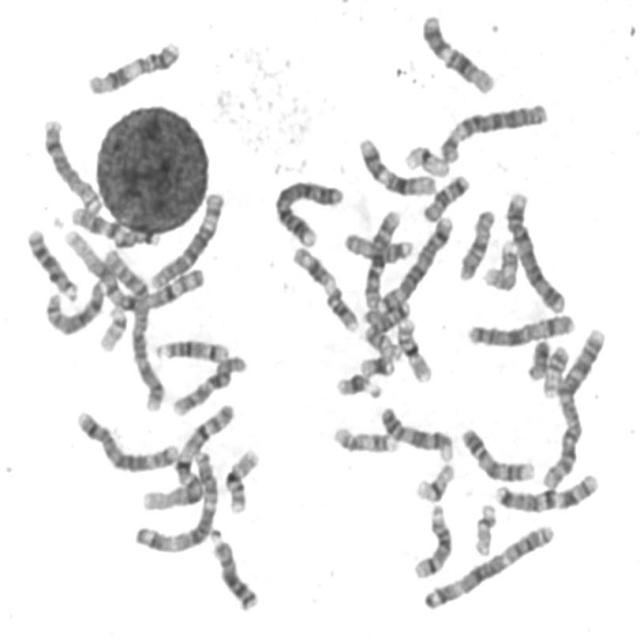A1: (60, 222, 208, 313), (138, 399, 238, 512)
A2: (536, 321, 608, 491), (98, 240, 166, 414)
A3: (418, 517, 557, 612), (131, 440, 224, 556)
B4: (501, 186, 568, 316), (270, 174, 346, 248)
B5: (373, 210, 455, 314), (70, 405, 181, 474)
C10: (168, 348, 250, 418), (360, 204, 404, 310)
C11: (287, 239, 362, 334), (82, 35, 182, 97)
C12: (416, 7, 497, 96), (354, 132, 437, 198)
C6: (145, 185, 227, 291), (434, 96, 551, 165)
C7: (489, 466, 601, 514), (67, 200, 162, 248)
C8: (37, 112, 104, 215), (40, 274, 108, 337)
C9: (375, 400, 456, 463), (457, 422, 537, 484)
D13: (22, 222, 81, 302), (206, 528, 260, 614)
D14: (408, 498, 454, 581), (148, 332, 232, 364)
D15: (454, 204, 498, 282), (339, 225, 416, 263)
E16: (391, 312, 435, 384), (220, 442, 262, 516)
E17: (328, 419, 400, 456), (477, 235, 521, 292)
E18: (418, 168, 471, 223), (358, 295, 413, 331)
F19: (410, 457, 457, 504), (400, 139, 452, 178)
F20: (538, 340, 572, 400), (359, 319, 403, 362)
G21: (331, 367, 384, 400), (355, 349, 396, 378)
G22: (94, 302, 129, 353), (469, 498, 498, 558)
X: (462, 307, 578, 348)
Y: (522, 333, 552, 381)
